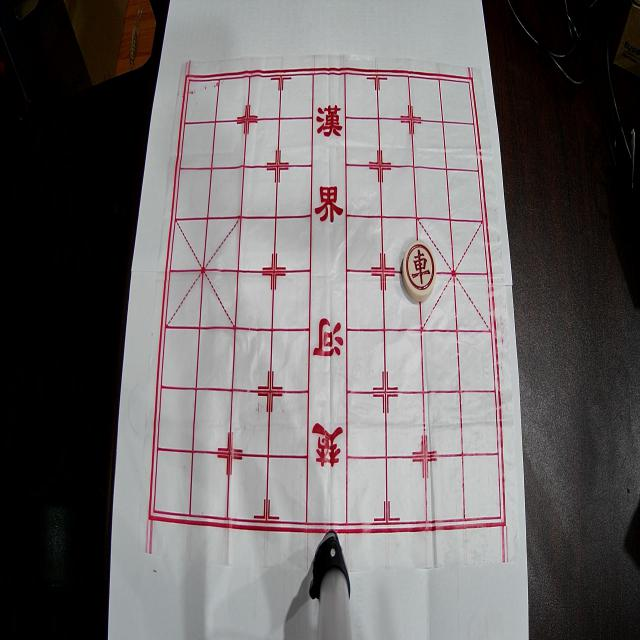red-chariot: (402, 241, 436, 302)
